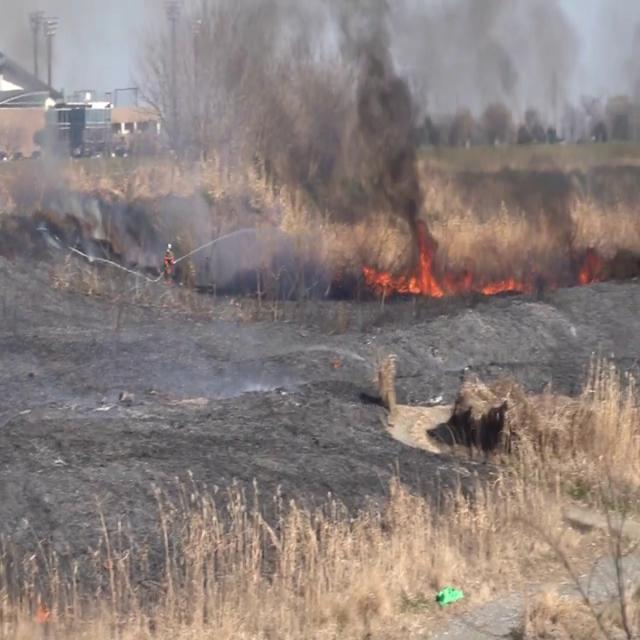Fire: (368, 243, 450, 304), (469, 270, 529, 298)
Smoke: (254, 0, 444, 240), (473, 4, 609, 302), (0, 100, 109, 248), (140, 172, 268, 298)
